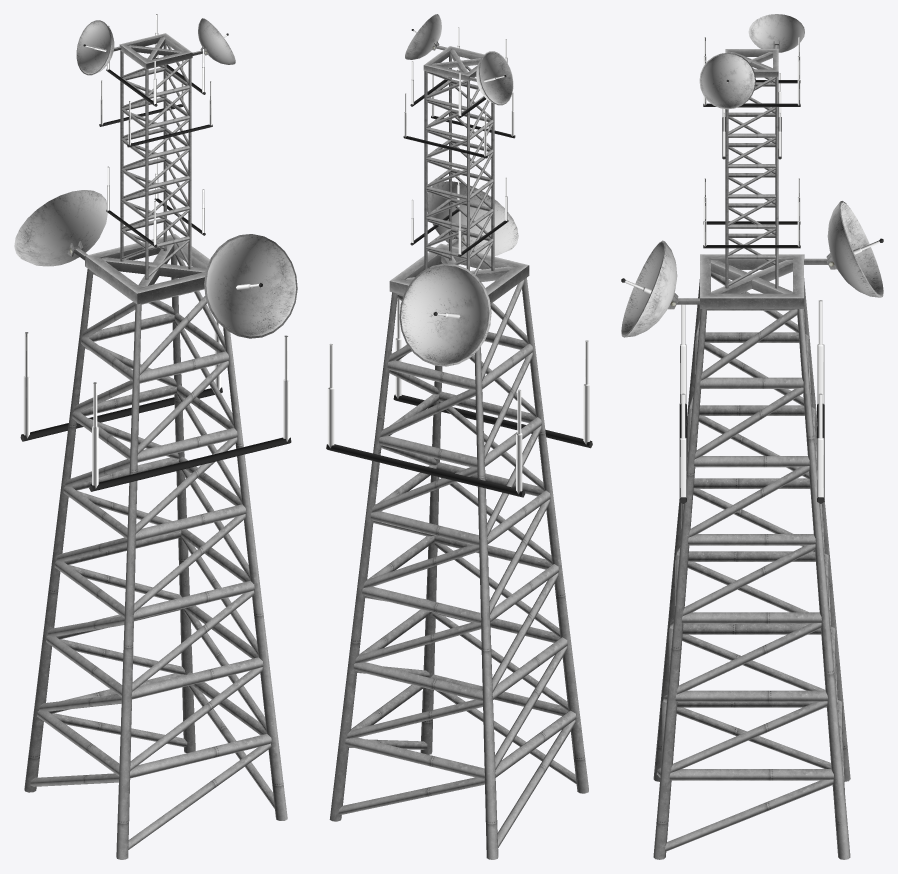
The model's file is radio_tower.dae.
3 renders of one model, left to right at view 1: azimuth 30°, elevation 25°; view 2: azimuth 150°, elevation 25°; view 3: azimuth 270°, elevation 25°, orthographic.
Visible parts, largest first — view 1: RadioTower; view 2: RadioTower; view 3: RadioTower.
Part boxes in pixels (left/top/right/bottom): RadioTower: left=14, top=14, right=297, bottom=859; RadioTower: left=326, top=14, right=592, bottom=859; RadioTower: left=621, top=14, right=883, bottom=859.
Size of the model in its own units: 462 by 527 by 1739.
